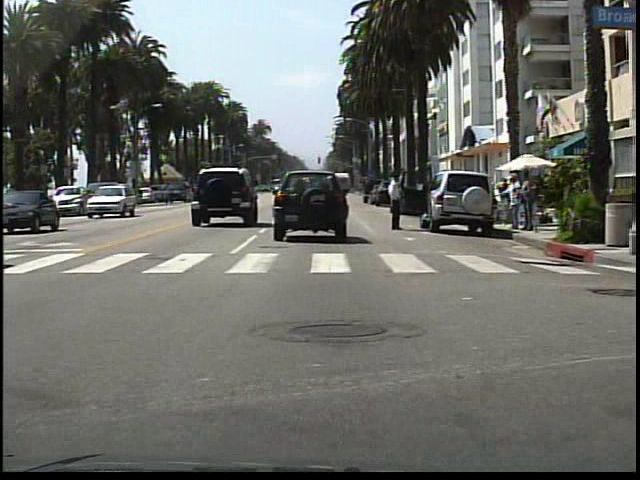person: (382, 168, 410, 234), (518, 167, 539, 233), (501, 166, 521, 235)
